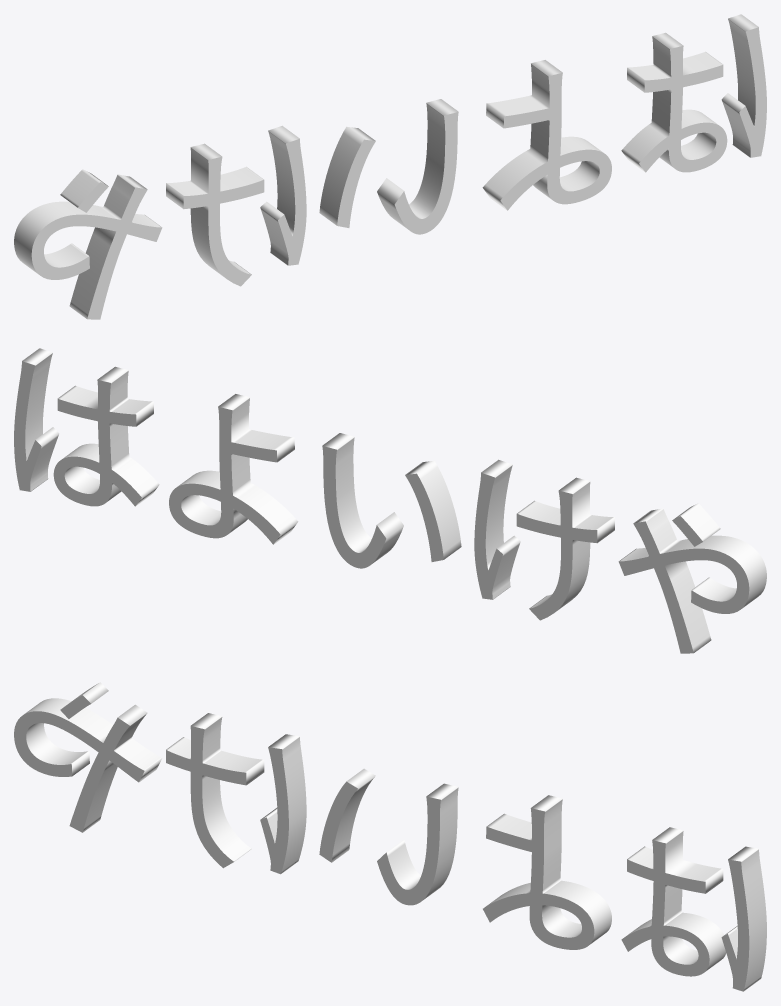
File: Hayo.obj
3 renders of one model, top to bottom at view 1: azimuth 30°, elevation 25°; view 2: azimuth 150°, elevation 25°; view 3: azimuth 330°, elevation 25°, orthographic.
Visible parts, largest first — view 1: テキスト; view 2: テキスト; view 3: テキスト.
Part boxes in pixels (left/top/right/bottom): テキスト: left=14, top=14, right=766, bottom=319; テキスト: left=14, top=348, right=766, bottom=653; テキスト: left=14, top=682, right=766, bottom=991.
Bounding box in the file's own units: 4.8 × 0.866 × 0.2.
